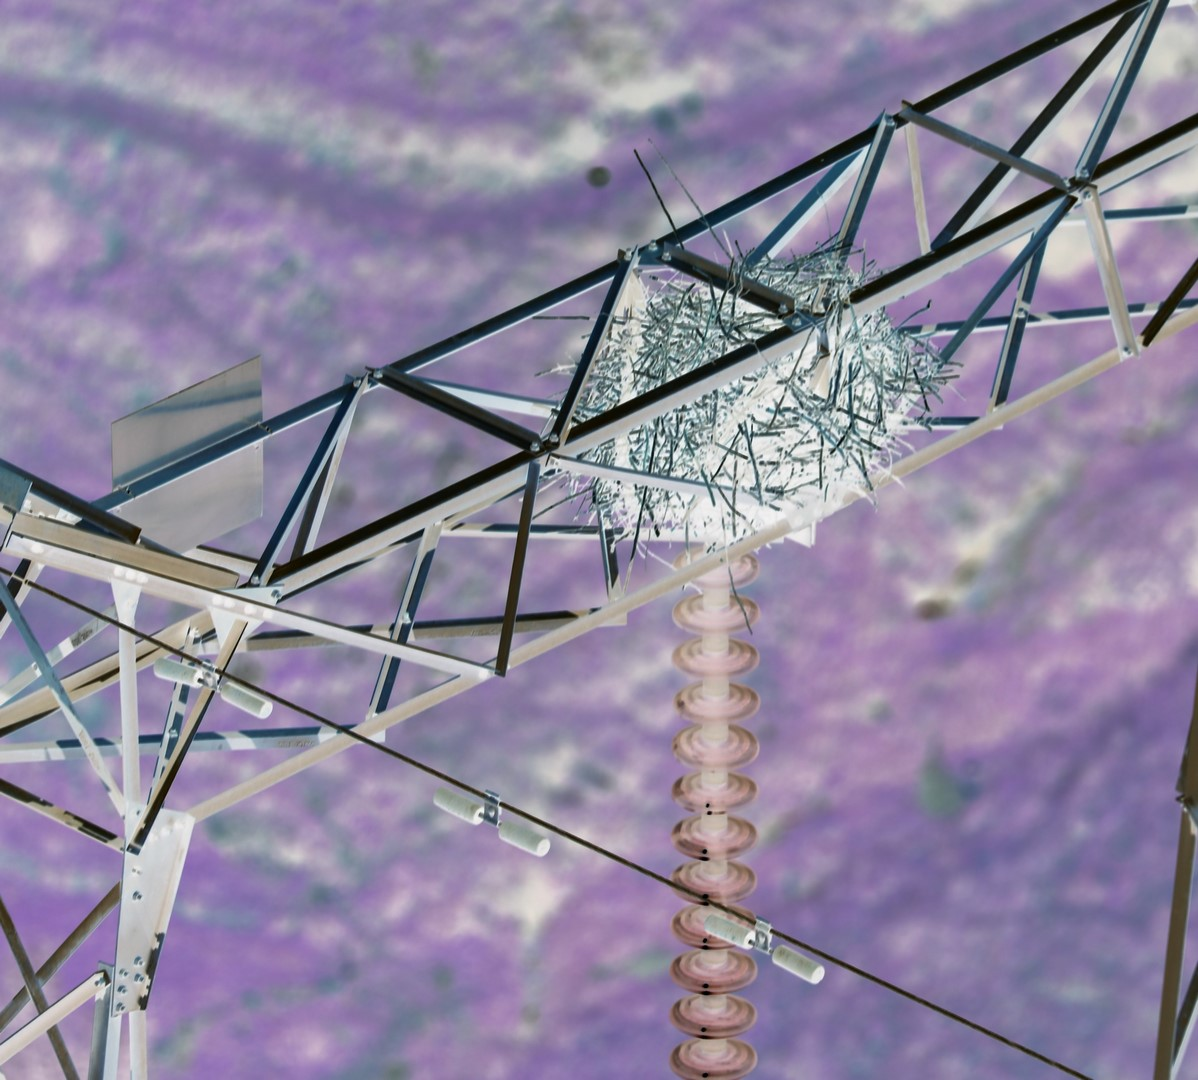niaowo: (535, 240, 954, 553)
